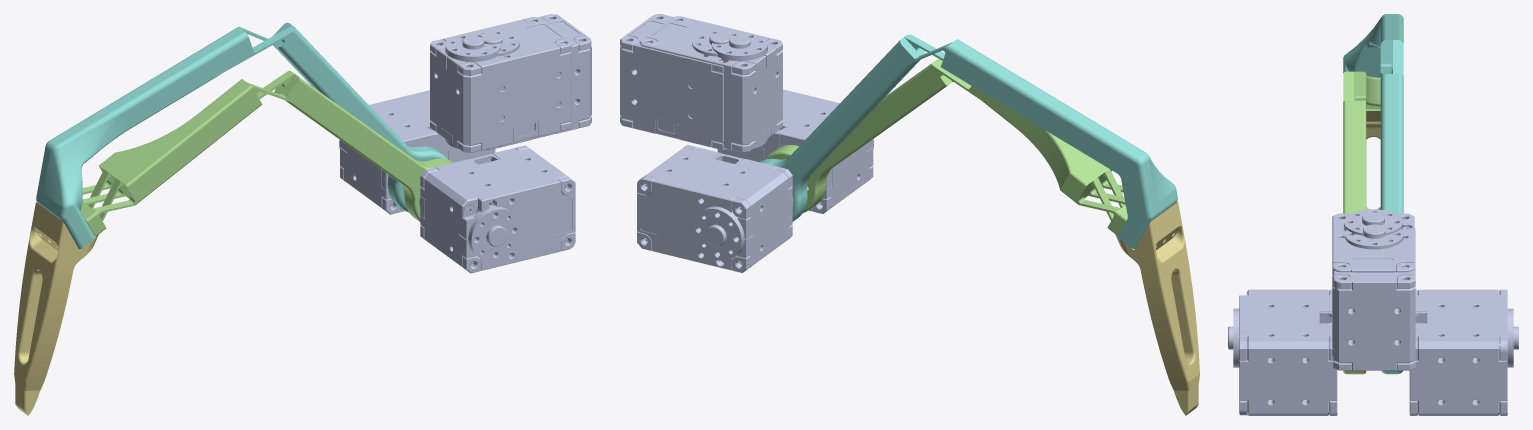
The picture shows the model from 3 angles, left to right: view 1: azimuth 30°, elevation 25°; view 2: azimuth 150°, elevation 25°; view 3: azimuth 270°, elevation 25°; orthographic projection. The views are drawn at different scales.
Visible parts, largest first — view 1: LinkA_002.1-1, XL-430_new.stp-1/DC11_A01_DUMMY.stp-1, XL-430_new.stp-4/DC11_A01_DUMMY.stp-1, LinkC_001.1-1, LinkE_003.1-1, XL-430_new.stp-3/DC11_A01_DUMMY.stp-1, XL-430_new.stp-5/DC11_A01_DUMMY.stp-1; view 2: LinkA_002.1-1, XL-430_new.stp-3/DC11_A01_DUMMY.stp-1, LinkC_001.1-1, XL-430_new.stp-5/DC11_A01_DUMMY.stp-1, LinkE_003.1-1, XL-430_new.stp-4/DC11_A01_DUMMY.stp-1, XL-430_new.stp-1/DC11_A01_DUMMY.stp-1; view 3: XL-430_new.stp-1/DC11_A01_DUMMY.stp-1, XL-430_new.stp-3/DC11_A01_DUMMY.stp-1, XL-430_new.stp-5/DC11_A01_DUMMY.stp-1, LinkA_002.1-1, LinkC_001.1-1, XL-430_new.stp-4/DC11_A01_DUMMY.stp-1, LinkE_003.1-1, XL-430_new.stp-5/DC11_A01_SPACER_DUMMY.stp-3.
Boxes of the visible parts, x1,y1,x2,y2 form: LinkA_002.1-1: (36,22,447,249); XL-430_new.stp-1/DC11_A01_DUMMY.stp-1: (420,148,575,270); XL-430_new.stp-4/DC11_A01_DUMMY.stp-1: (430,19,571,150); LinkC_001.1-1: (80,70,453,236); LinkE_003.1-1: (14,202,98,415); XL-430_new.stp-3/DC11_A01_DUMMY.stp-1: (339,90,495,211); XL-430_new.stp-5/DC11_A01_DUMMY.stp-1: (474,16,591,147); LinkA_002.1-1: (759,34,1177,248); XL-430_new.stp-3/DC11_A01_DUMMY.stp-1: (637,147,792,270); LinkC_001.1-1: (764,58,1127,235); XL-430_new.stp-5/DC11_A01_DUMMY.stp-1: (620,16,735,147); LinkE_003.1-1: (1115,202,1199,415); XL-430_new.stp-4/DC11_A01_DUMMY.stp-1: (646,18,782,149); XL-430_new.stp-1/DC11_A01_DUMMY.stp-1: (717,89,873,211); XL-430_new.stp-1/DC11_A01_DUMMY.stp-1: (1228,289,1337,415); XL-430_new.stp-3/DC11_A01_DUMMY.stp-1: (1409,289,1518,415); XL-430_new.stp-5/DC11_A01_DUMMY.stp-1: (1333,224,1415,370); LinkA_002.1-1: (1343,14,1403,374); LinkC_001.1-1: (1343,71,1380,374); XL-430_new.stp-4/DC11_A01_DUMMY.stp-1: (1332,209,1414,348); LinkE_003.1-1: (1366,111,1380,209); XL-430_new.stp-5/DC11_A01_SPACER_DUMMY.stp-3: (1333,274,1351,290).
Bounding box in the file's own units: 0.2355 × 0.1298 × 0.1008.
